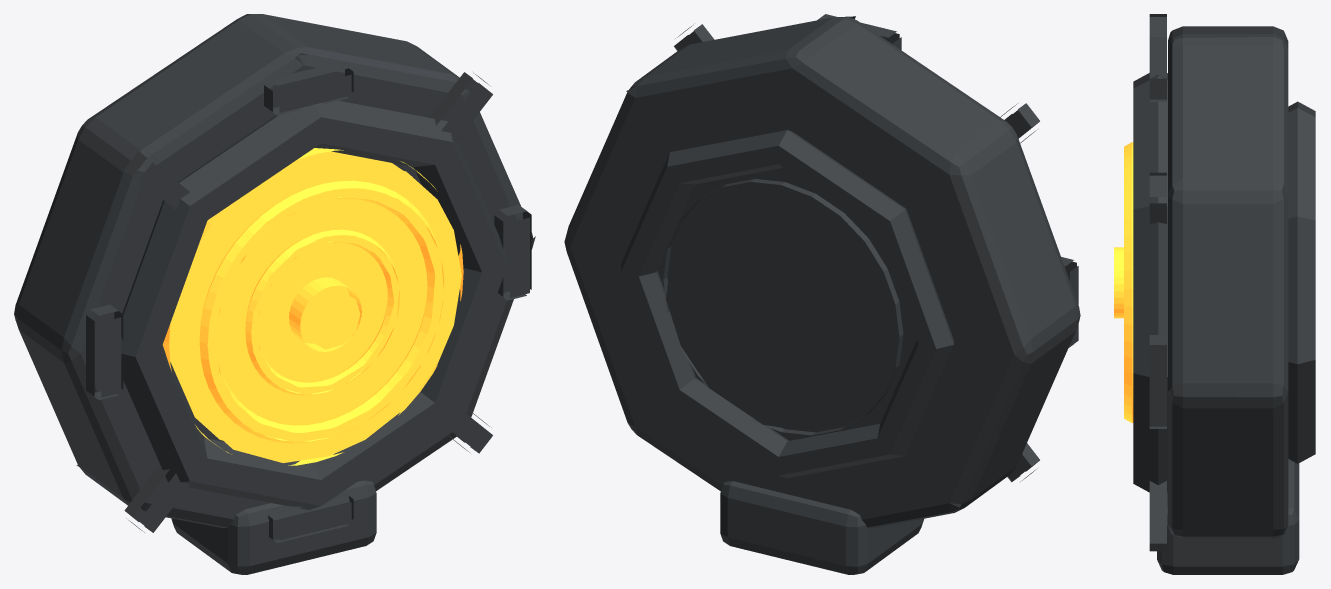
Rendered from relic-sunstone-lens-focal-lod2.glb.
3 views of the same model, side by side, from view 1: azimuth 30°, elevation 25°; view 2: azimuth 150°, elevation 25°; view 3: azimuth 270°, elevation 25° (orthographic).
Parts seen in each view (by area): view 1: xenovoya_runtime_asset; view 2: xenovoya_runtime_asset; view 3: xenovoya_runtime_asset.
Part boxes in pixels (bbox=[...]): xenovoya_runtime_asset: bbox=[14, 14, 535, 574]; xenovoya_runtime_asset: bbox=[564, 14, 1080, 574]; xenovoya_runtime_asset: bbox=[1114, 14, 1315, 574].
Size of the model in its own units: 1.98 by 2.05 by 0.7601.
